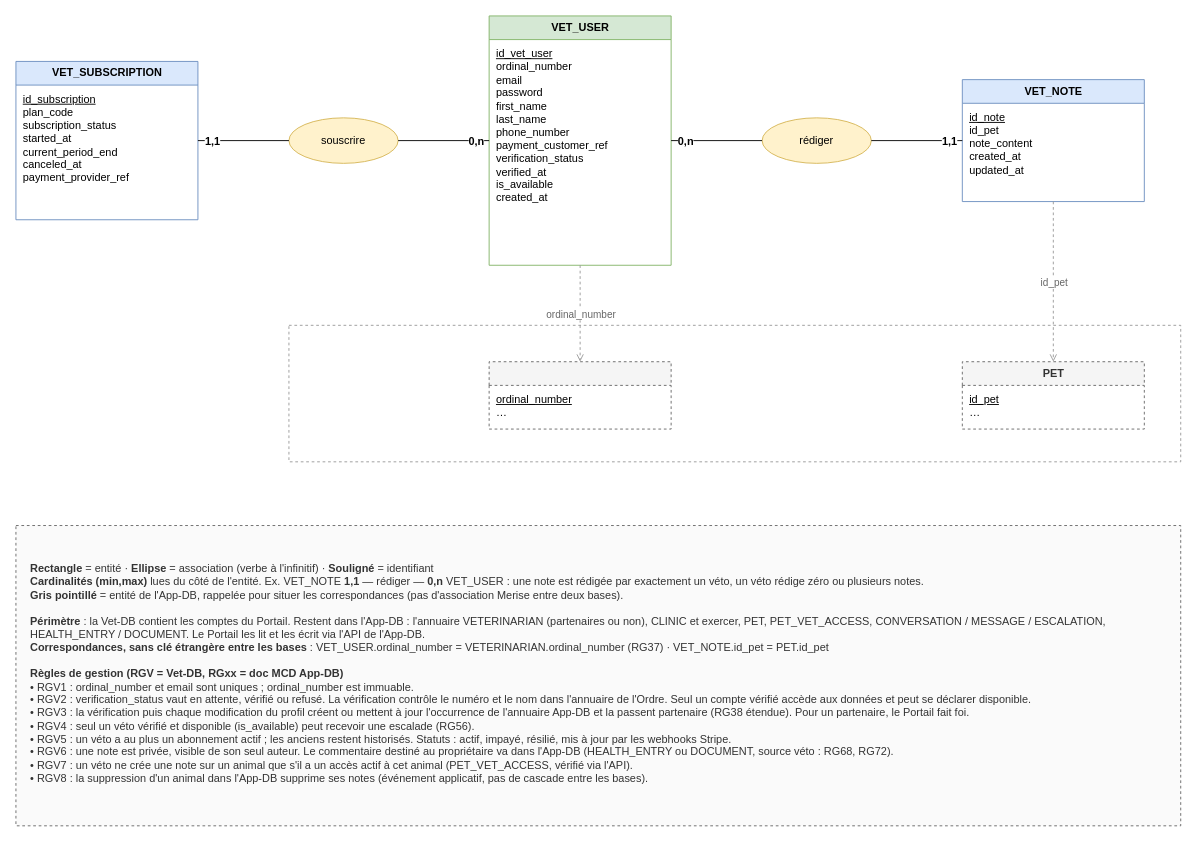
The diagram is 1197 pixels wide and 842 high, and some of its shapes have lost their labels. Here are the shapes that lost their labels. From the top down, the box of each, then its label:
(488, 361, 671, 429): VETERINARIAN
(288, 324, 1181, 462): App-DB (autre base, lue via l'API)
(15, 525, 1181, 826): Légende — MCD Vet-DB (Merise)
